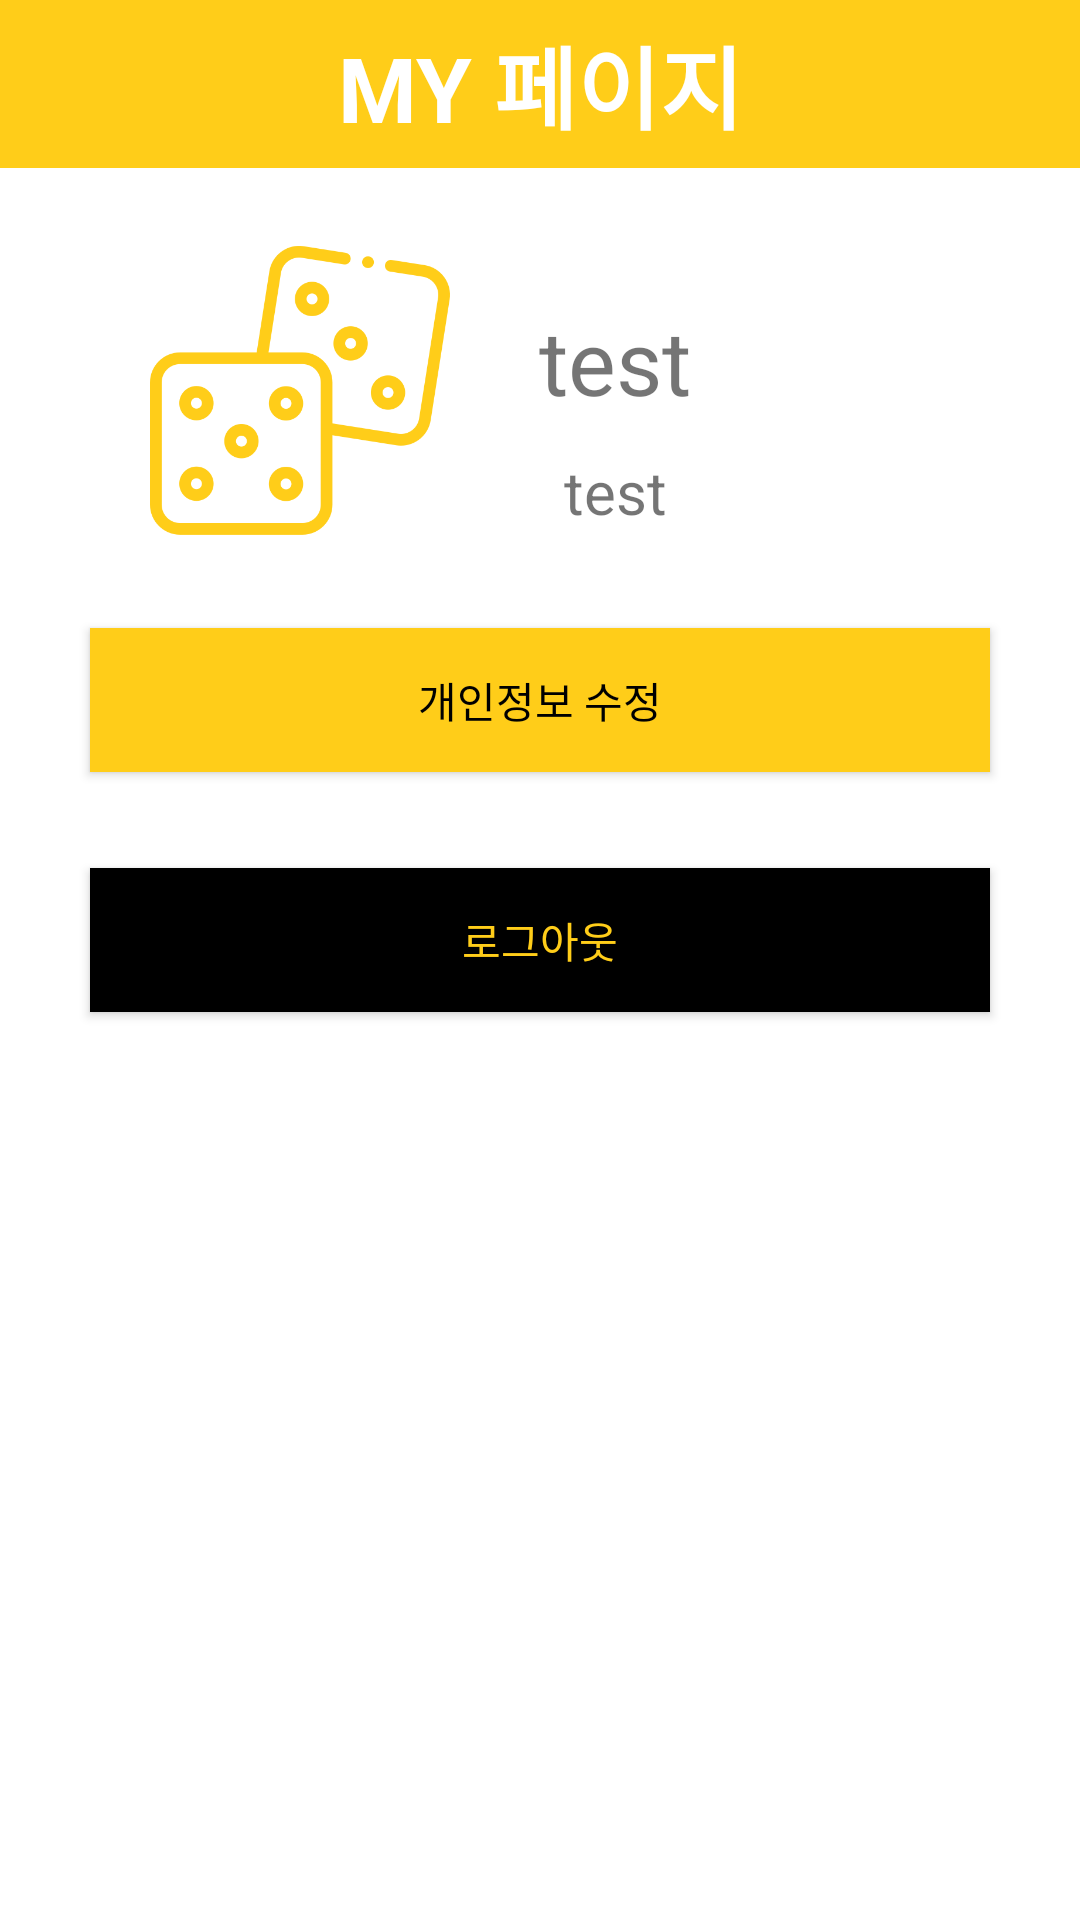

Screen size 1080x1920. Icon name, then its box in pixels as detection(x1, y1, x2, y2):
dice: detection(150, 246, 450, 535)
